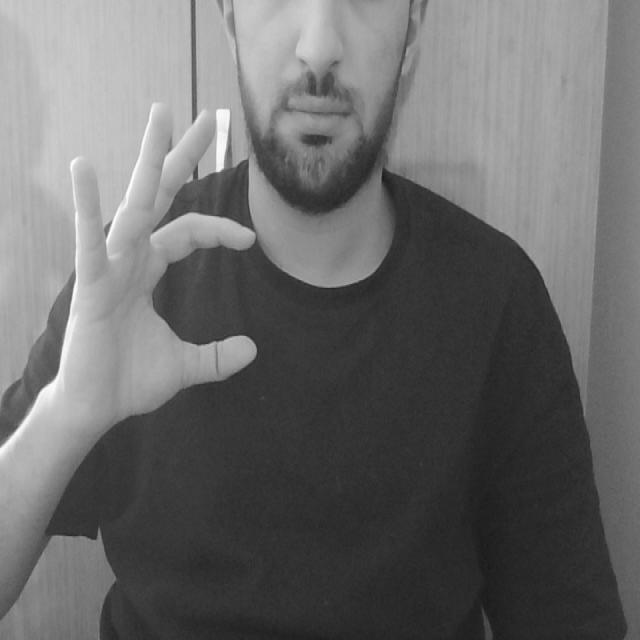Tuvalet: (32, 98, 274, 434)
